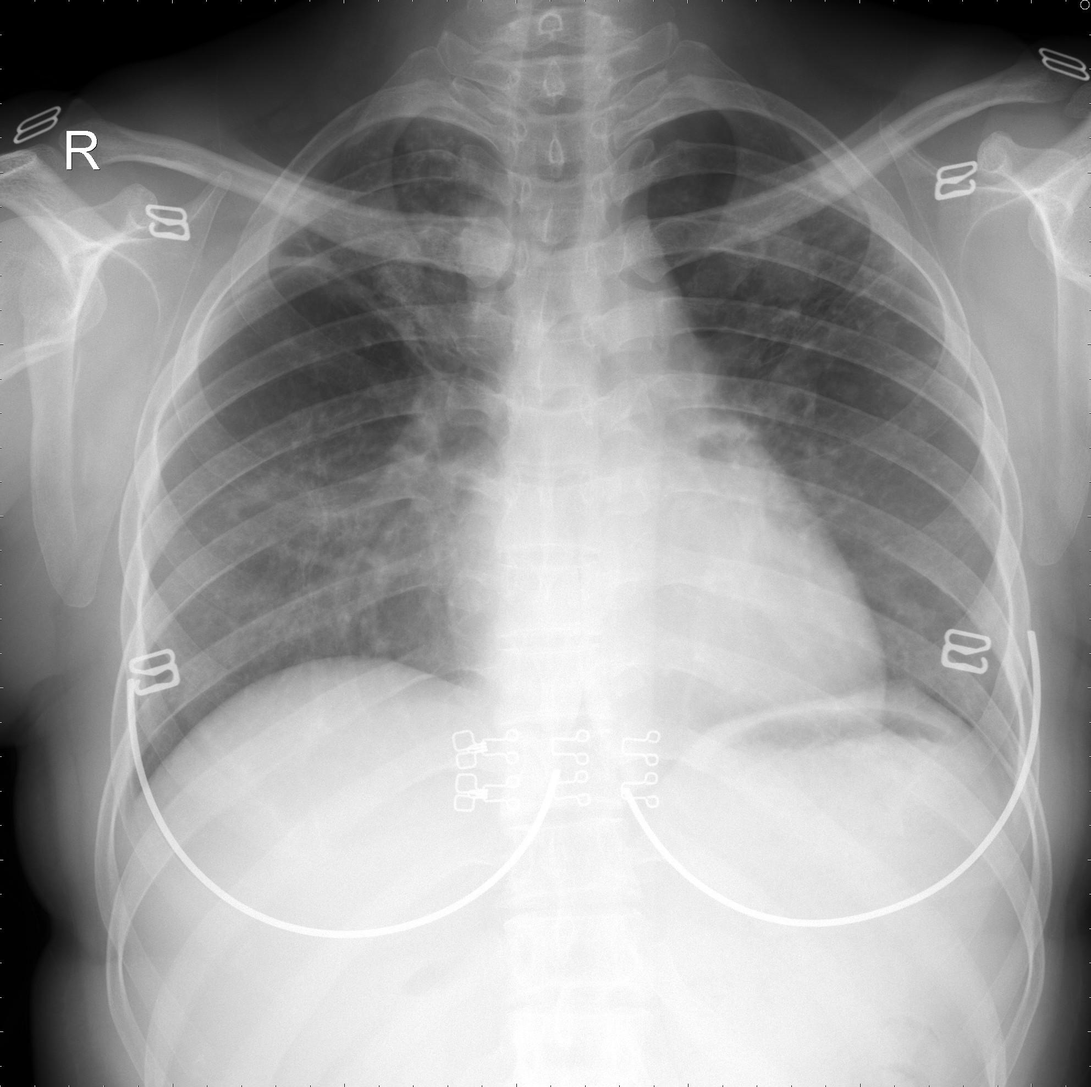Pulmonary fibrosis: (243, 245, 460, 364), (841, 260, 908, 317)
